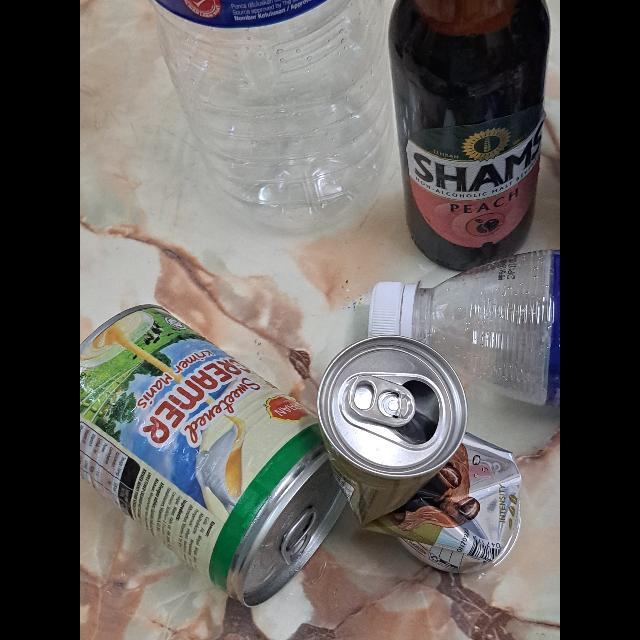aba de lata: (350, 374, 416, 426), (283, 506, 317, 564)
garrafa de vidro: (392, 0, 560, 272)
garrafa plástica: (143, 1, 390, 236), (412, 248, 560, 412)
lata: (80, 302, 350, 610), (316, 337, 522, 573)
tampa plástica: (368, 282, 412, 340)
